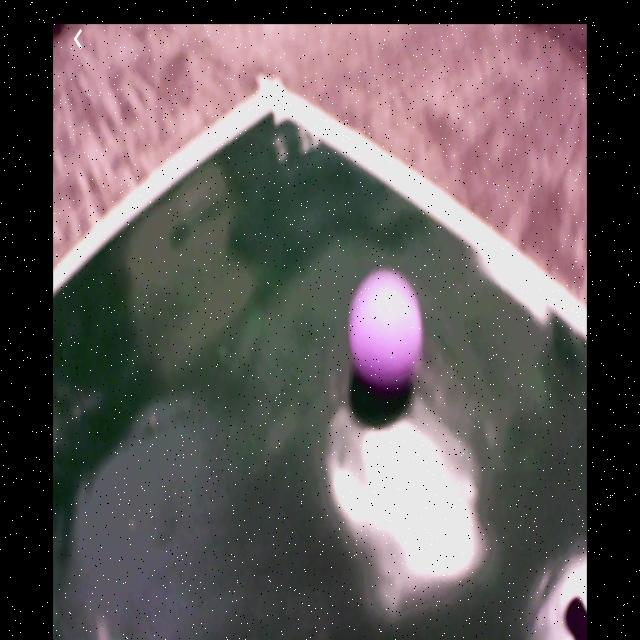ball: (349, 269, 423, 387)
